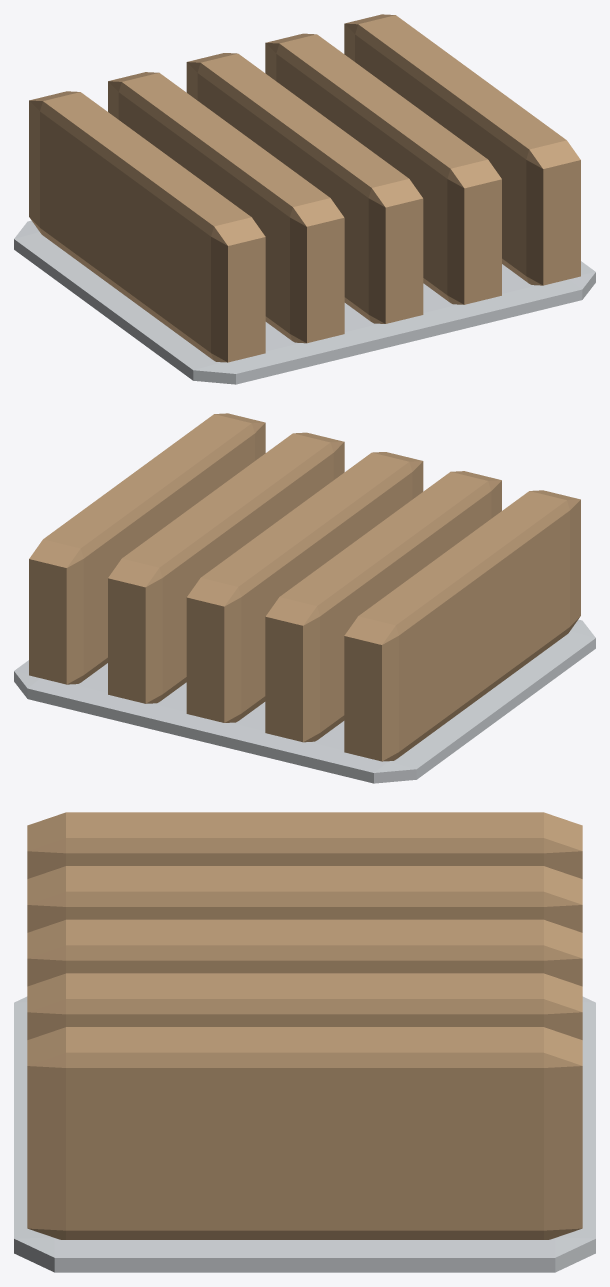
Rendered from b01_hexagonal_family_picnic_table.glb.
3 views of the same model, one above another, from view 1: azimuth 30°, elevation 25°; view 2: azimuth 150°, elevation 25°; view 3: azimuth 270°, elevation 25° (orthographic). The views are drawn at different scales.
Parts seen in each view (by area): view 1: b01_hexagonal_family_picnic_table; view 2: b01_hexagonal_family_picnic_table; view 3: b01_hexagonal_family_picnic_table.
Part boxes in pixels (left/top/right/bottom): b01_hexagonal_family_picnic_table: left=14, top=14, right=595, bottom=384; b01_hexagonal_family_picnic_table: left=14, top=413, right=595, bottom=783; b01_hexagonal_family_picnic_table: left=14, top=812, right=595, bottom=1272.
Size of the model in its own units: 2.37 by 0.823 by 2.13.
